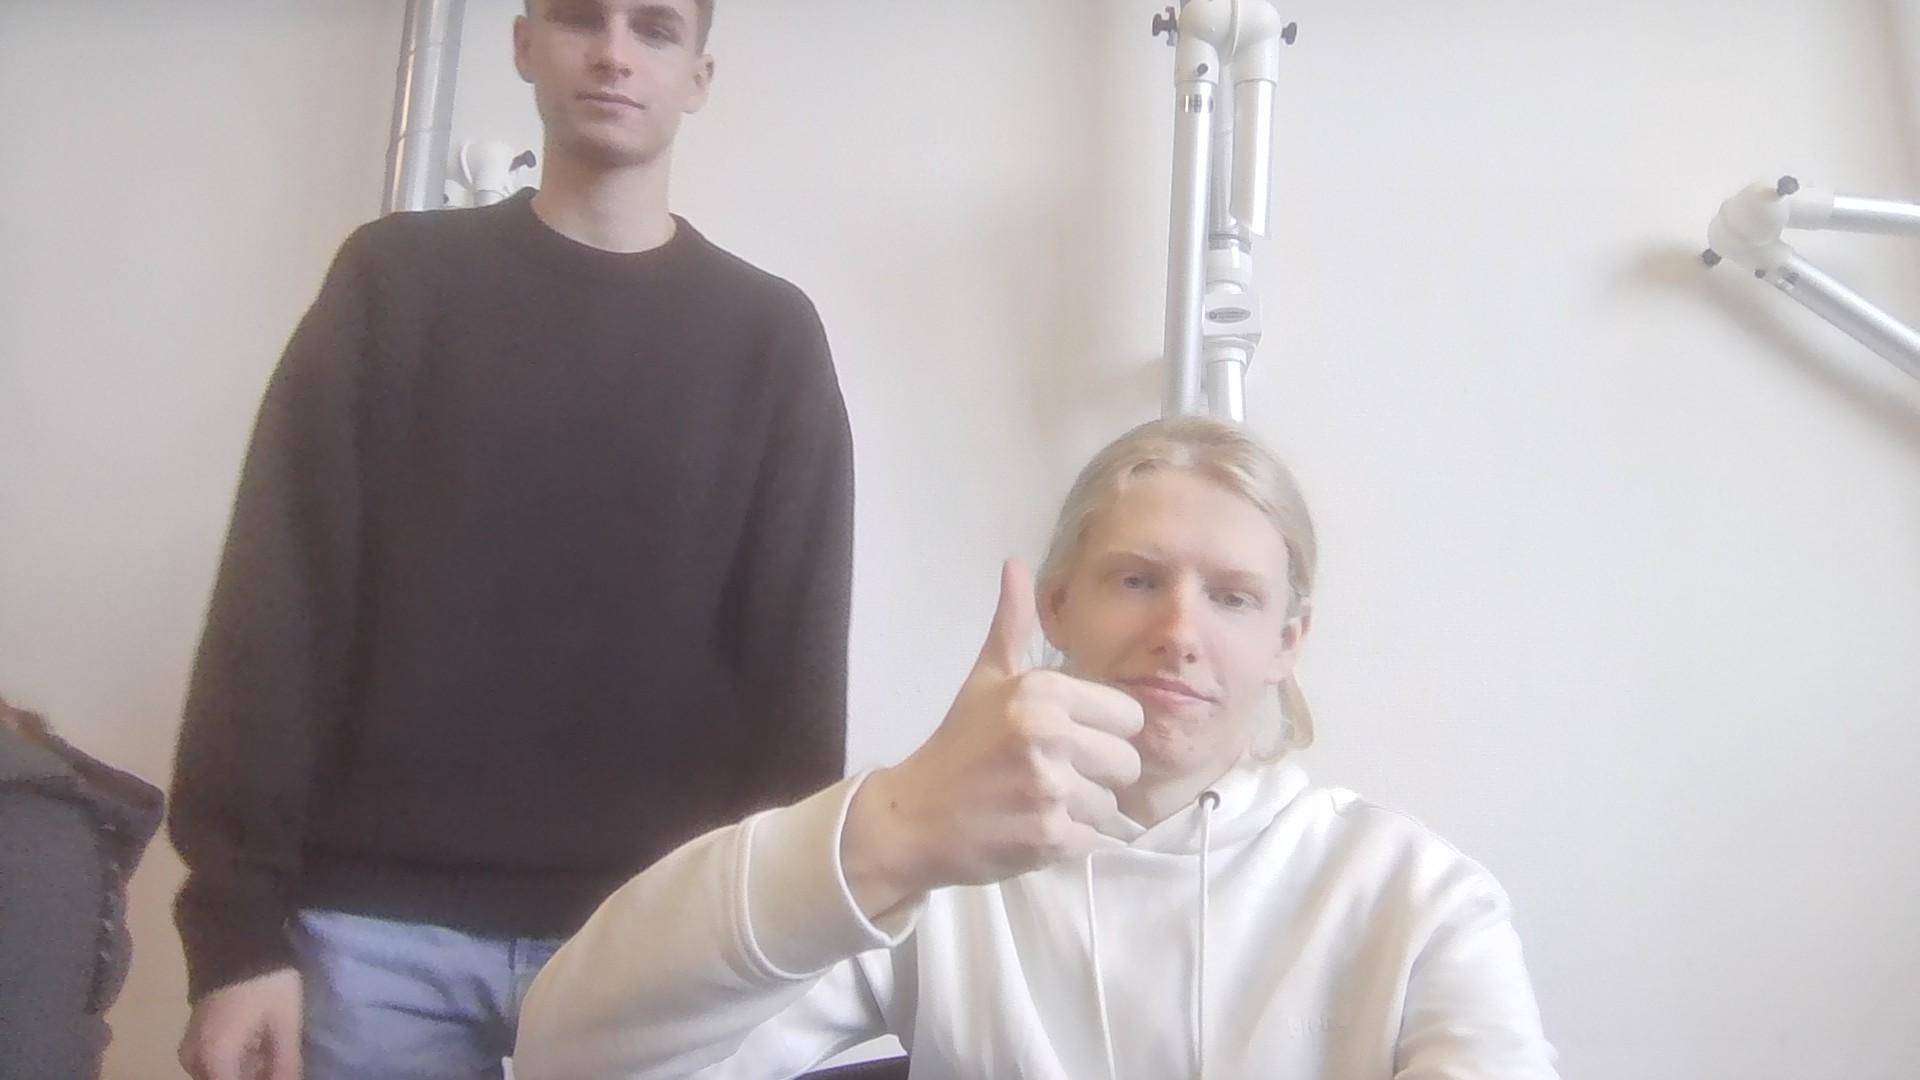thumbs up: (880, 556, 1145, 895)
